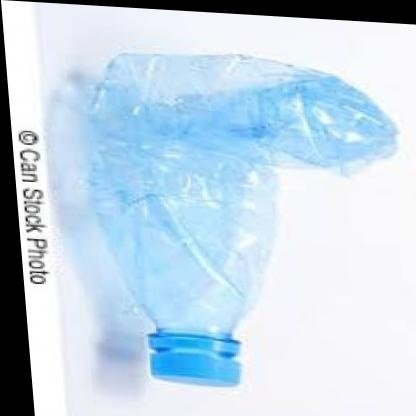trash: (86, 54, 396, 384)
